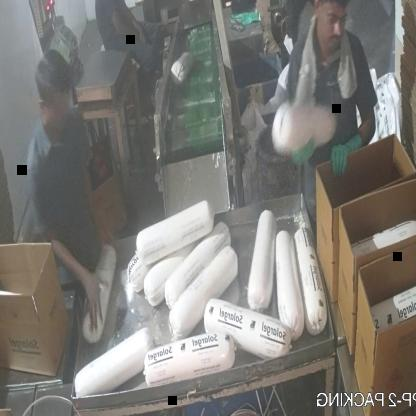glove: (326, 123, 371, 177)
no_glove: (36, 220, 115, 330), (106, 13, 144, 45)
